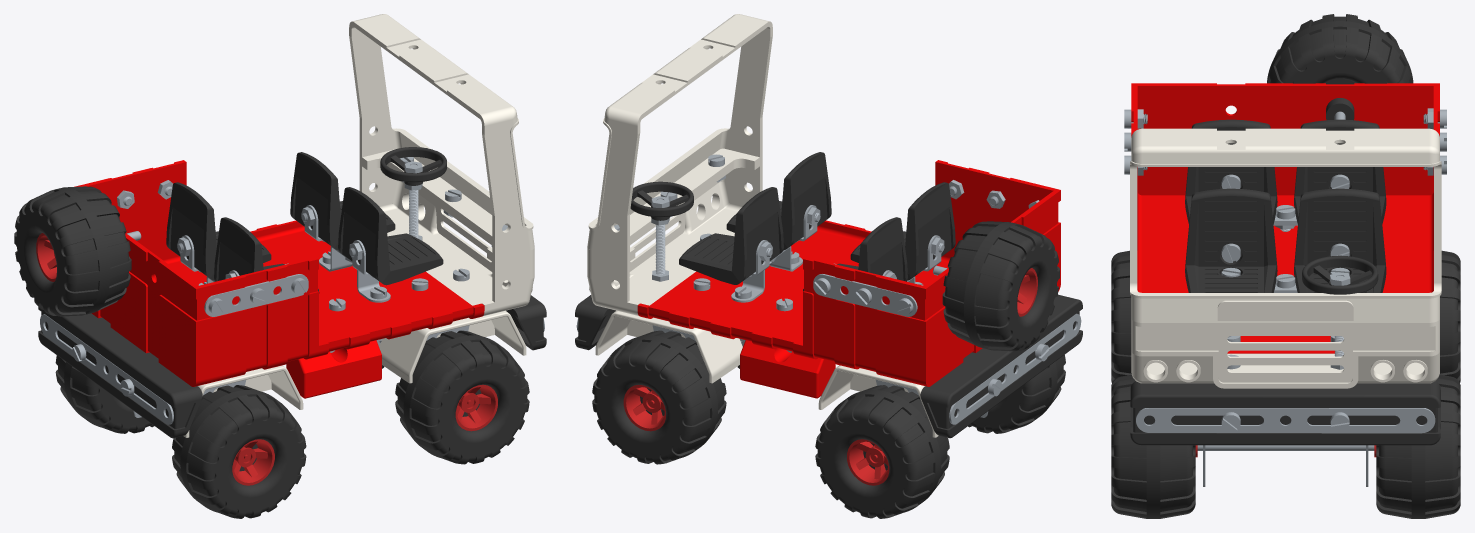
The model's file is C08 DDR.glb.
3 renders of one model, left to right at view 1: azimuth 30°, elevation 25°; view 2: azimuth 150°, elevation 25°; view 3: azimuth 270°, elevation 25°, orthographic. The views are drawn at different scales.
Parts seen in each view (by area): view 1: Reifen 54 x 10 x 31 (×4), Frontscheibe LKW, Sitz (×5), LKW Rückwand Rot, LKW Mittelteil Rot, LKW Mittelteil flach Rot (×2), Kühlergrill LKW, Stoßstange (×2), Kotflügel Weiss (×2), Nabe Breitreifen alt rot (×3), Tank Rot, Langlochband 11 (+3 smaller); view 2: Reifen 54 x 10 x 31 (×4), Frontscheibe LKW, Sitz (×5), LKW Mittelteil Rot, LKW Mittelteil flach Rot (×2), Kühlergrill LKW, LKW Rückwand Rot, Stoßstange (×2), Kotflügel Weiss (×2), Nabe Breitreifen alt rot (×3), Tank Rot, Langlochband 11 (+3 smaller); view 3: Reifen 54 x 10 x 31 (×5), Frontscheibe LKW, Sitz (×6), Kühlergrill LKW, LKW Rückwand Rot, Stoßstange, LKW Mittelteil Rot, Langlochband 11, LKW Mittelteil flach Rot (×2), Lenkrad, Welle 95, Elastikstellring schmal DDR.
Part boxes in pixels (bbox=[...]): Reifen 54 x 10 x 31 (×4): bbox=[14, 186, 529, 518]; Frontscheibe LKW: bbox=[349, 14, 534, 258]; Sitz (×5): bbox=[166, 152, 443, 285]; LKW Rückwand Rot: bbox=[74, 180, 236, 386]; LKW Mittelteil Rot: bbox=[101, 160, 318, 376]; LKW Mittelteil flach Rot (×2): bbox=[250, 220, 484, 356]; Kühlergrill LKW: bbox=[359, 160, 534, 315]; Stoßstange (×2): bbox=[38, 295, 546, 438]; Kotflügel Weiss (×2): bbox=[183, 310, 526, 437]; Nabe Breitreifen alt rot (×3): bbox=[36, 233, 497, 485]; Tank Rot: bbox=[286, 340, 381, 398]; Langlochband 11: bbox=[40, 314, 173, 424]; Reifen 54 x 10 x 31 (×4): bbox=[592, 221, 1065, 518]; Frontscheibe LKW: bbox=[587, 14, 772, 258]; Sitz (×5): bbox=[679, 152, 955, 284]; LKW Mittelteil Rot: bbox=[803, 160, 1020, 376]; LKW Mittelteil flach Rot (×2): bbox=[637, 220, 871, 356]; Kühlergrill LKW: bbox=[587, 160, 762, 315]; LKW Rückwand Rot: bbox=[885, 180, 1060, 386]; Stoßstange (×2): bbox=[575, 294, 1082, 438]; Kotflügel Weiss (×2): bbox=[595, 310, 938, 437]; Nabe Breitreifen alt rot (×3): bbox=[623, 268, 1037, 485]; Tank Rot: bbox=[740, 340, 835, 398]; Langlochband 11: bbox=[949, 313, 1081, 424]; Reifen 54 x 10 x 31 (×5): bbox=[1111, 14, 1460, 518]; Frontscheibe LKW: bbox=[1130, 128, 1441, 322]; Sitz (×6): bbox=[1185, 119, 1386, 292]; Kühlergrill LKW: bbox=[1131, 319, 1439, 388]; LKW Rückwand Rot: bbox=[1131, 83, 1439, 215]; Stoßstange: bbox=[1130, 381, 1440, 445]; LKW Mittelteil Rot: bbox=[1131, 106, 1439, 261]; Langlochband 11: bbox=[1136, 408, 1435, 433]; LKW Mittelteil flach Rot (×2): bbox=[1137, 251, 1433, 353]; Lenkrad: bbox=[1302, 255, 1378, 294]; Welle 95: bbox=[1197, 445, 1374, 450]; Elastikstellring schmal DDR: bbox=[1326, 98, 1354, 120].
Size of the model in its own units: 0.2033 by 0.1582 by 0.1284.
